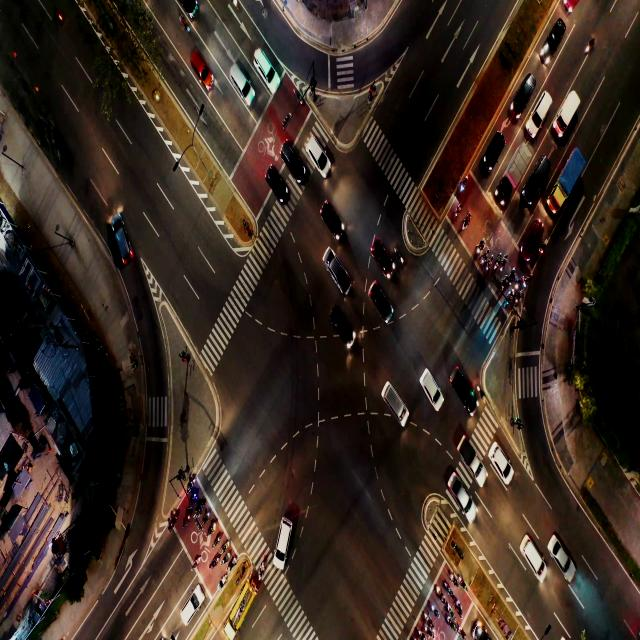bus: (242, 596, 247, 614)
car: (554, 540, 570, 570), (388, 388, 403, 417), (115, 228, 127, 257), (278, 520, 286, 560), (329, 308, 345, 326), (181, 594, 199, 610), (194, 52, 206, 75), (271, 168, 282, 193), (528, 548, 540, 570), (282, 146, 294, 166), (495, 452, 507, 472), (373, 288, 386, 306), (457, 372, 467, 395), (326, 259, 341, 274), (427, 376, 436, 401), (259, 54, 269, 74), (458, 486, 468, 506), (233, 70, 245, 86), (489, 141, 499, 160), (550, 30, 560, 49), (328, 213, 339, 227), (534, 170, 542, 187), (529, 229, 535, 251), (311, 142, 320, 156), (375, 245, 384, 259), (538, 104, 545, 117), (522, 84, 528, 95)
motorcycle: (395, 247, 404, 264), (259, 566, 266, 586), (458, 574, 466, 588), (463, 212, 468, 228), (189, 492, 196, 502), (456, 202, 460, 219), (222, 553, 228, 563), (461, 628, 467, 638), (463, 177, 467, 190), (185, 516, 190, 526), (198, 502, 203, 512), (218, 576, 224, 584), (542, 241, 546, 253), (188, 478, 193, 487), (446, 584, 451, 593), (171, 518, 176, 526), (193, 560, 198, 568), (478, 240, 483, 248), (483, 252, 487, 262), (452, 576, 457, 584), (458, 605, 462, 615), (426, 615, 431, 623), (209, 522, 213, 531), (221, 544, 226, 551), (427, 629, 432, 636), (212, 557, 216, 565), (518, 278, 522, 286), (526, 276, 530, 284), (518, 292, 522, 300), (438, 592, 442, 600), (228, 562, 233, 568), (488, 259, 492, 266), (418, 629, 422, 636), (434, 605, 437, 614), (205, 513, 208, 521), (216, 536, 220, 542), (504, 278, 507, 286), (510, 271, 514, 277), (503, 260, 506, 266), (450, 620, 453, 626), (497, 256, 499, 264), (509, 293, 511, 301), (454, 596, 456, 602), (452, 612, 454, 618), (448, 605, 450, 610)
truck: (464, 443, 477, 466), (565, 169, 576, 189), (515, 157, 524, 175), (564, 104, 571, 118)
